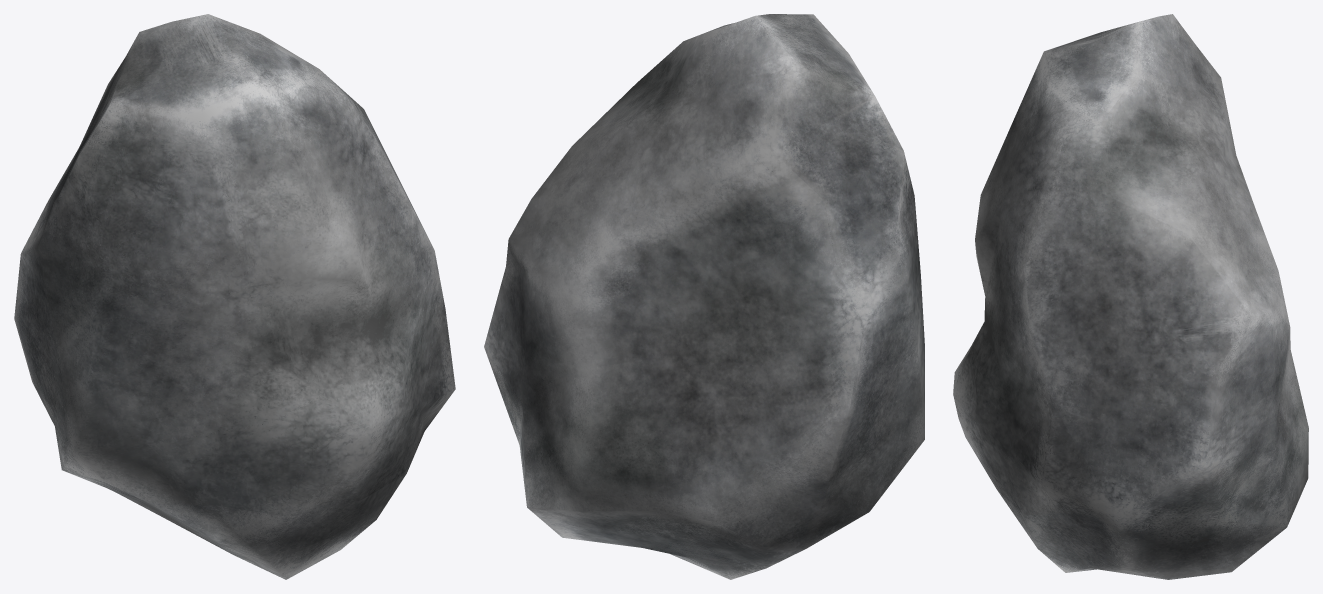
Rendered from rock_4.dae.
3 renders of one model, left to right at view 1: azimuth 30°, elevation 25°; view 2: azimuth 150°, elevation 25°; view 3: azimuth 270°, elevation 25°, orthographic. The views are drawn at different scales.
Parts seen in each view (by area): view 1: rock_4_low; view 2: rock_4_low; view 3: rock_4_low.
Part boxes in pixels (<box>): rock_4_low: <box>14,14,455,579</box>; rock_4_low: <box>484,14,924,579</box>; rock_4_low: <box>953,14,1308,579</box>.
Bounding box in the file's own units: 4.22 × 3.51 × 5.66.
Materials: 1 (1 with a texture image).
